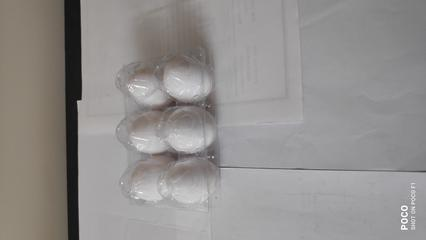eggs: (116, 61, 222, 216)
